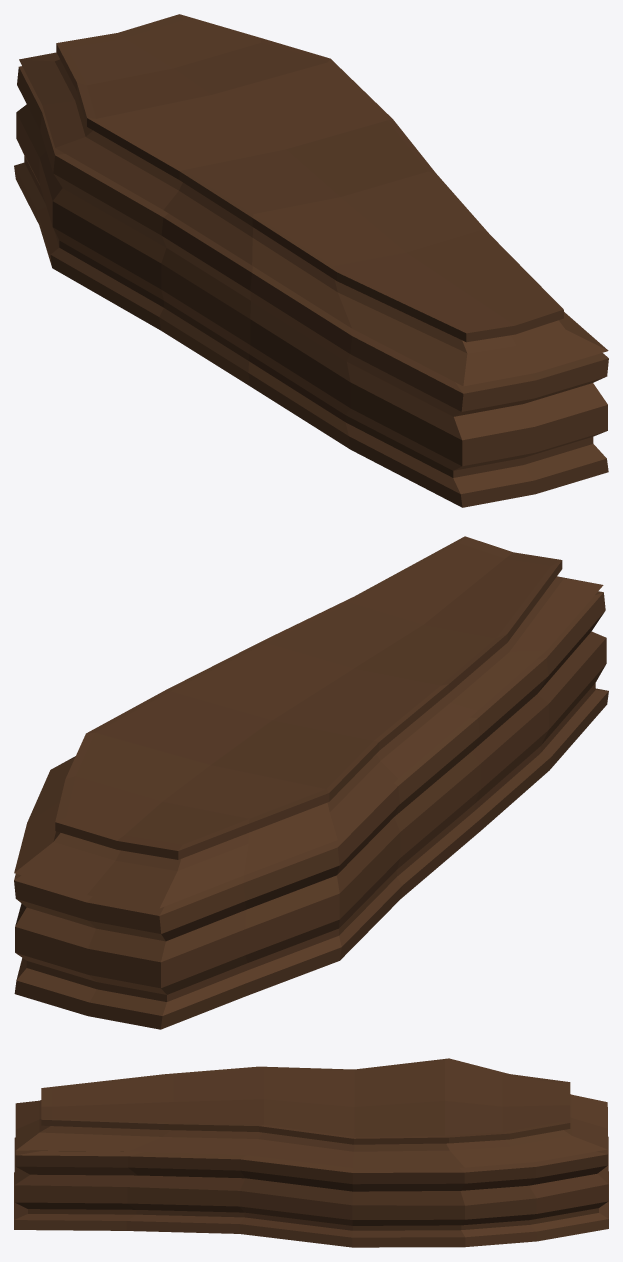
File: coffin1_v1.fbx
3 renders of one model, top to bottom at view 1: azimuth 30°, elevation 25°; view 2: azimuth 150°, elevation 25°; view 3: azimuth 270°, elevation 25°, orthographic. The views are drawn at different scales.
Parts seen in each view (by area): view 1: Cube.368; view 2: Cube.368; view 3: Cube.368.
Part boxes in pixels (left/top/right/bottom): Cube.368: left=14, top=14, right=608, bottom=507; Cube.368: left=14, top=536, right=608, bottom=1029; Cube.368: left=14, top=1058, right=608, bottom=1247.
Size of the model in its own units: 354 by 193 by 938.
